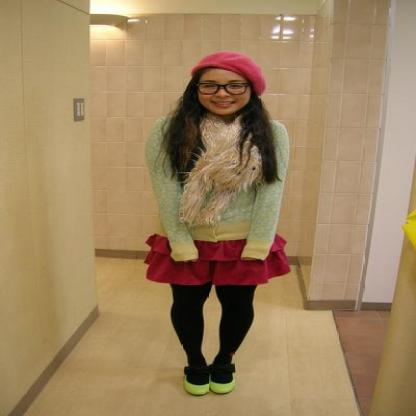hat: (200, 52, 263, 96)
jacket: (137, 131, 281, 261)
shoe: (179, 381, 240, 400)
skirt: (145, 234, 289, 285)
